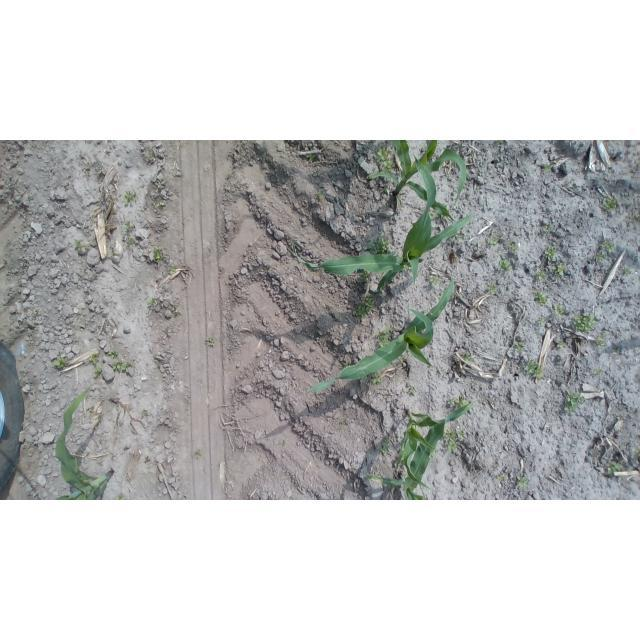Maize: (291, 155, 471, 292), (310, 278, 455, 394), (359, 141, 467, 228), (395, 399, 475, 490), (55, 386, 114, 500), (365, 420, 445, 501)
Weeds: (355, 293, 377, 318), (572, 313, 598, 334), (564, 389, 585, 413), (444, 428, 464, 453), (376, 145, 393, 173), (365, 236, 390, 254), (524, 360, 545, 381), (375, 326, 392, 347), (447, 395, 471, 408), (608, 460, 625, 476), (153, 245, 168, 263), (122, 188, 138, 204), (378, 435, 392, 452), (544, 244, 557, 262), (602, 197, 617, 212), (52, 356, 68, 370), (113, 360, 130, 372), (595, 332, 607, 349), (498, 260, 513, 273), (121, 221, 135, 234), (536, 291, 549, 305), (554, 264, 568, 277), (602, 240, 617, 252), (517, 475, 530, 488), (535, 269, 548, 282), (74, 238, 88, 250), (553, 305, 566, 317), (460, 353, 475, 363), (114, 492, 132, 500), (107, 349, 120, 360), (356, 272, 370, 282), (371, 372, 382, 384), (514, 341, 526, 352), (89, 352, 99, 364), (508, 240, 518, 252), (488, 235, 500, 245), (145, 297, 157, 306), (152, 200, 165, 208), (92, 367, 102, 377), (449, 233, 459, 243), (429, 210, 439, 220), (488, 284, 497, 295), (208, 337, 217, 348), (429, 277, 442, 284), (556, 341, 566, 350), (595, 252, 605, 261), (144, 152, 153, 161), (168, 264, 176, 274), (632, 211, 640, 221), (317, 188, 323, 200), (497, 473, 506, 481), (624, 267, 633, 275), (543, 164, 551, 173), (305, 154, 315, 161), (537, 316, 545, 324), (397, 355, 406, 362), (157, 180, 164, 189), (172, 307, 182, 313), (408, 389, 416, 396), (593, 368, 601, 375), (544, 225, 552, 232), (128, 237, 135, 244), (383, 184, 389, 192), (440, 215, 448, 221), (439, 368, 445, 376), (193, 451, 199, 459), (637, 445, 640, 460), (83, 452, 91, 457), (611, 349, 617, 355), (495, 140, 504, 144), (452, 295, 459, 300), (89, 406, 94, 412), (390, 251, 396, 256), (33, 310, 37, 317), (96, 419, 101, 424), (381, 286, 386, 291), (156, 362, 161, 367), (140, 412, 145, 417), (184, 493, 189, 498), (403, 469, 408, 474), (344, 364, 349, 368), (340, 422, 344, 427), (596, 399, 600, 404), (460, 234, 464, 238), (101, 412, 104, 417), (96, 172, 99, 177)
